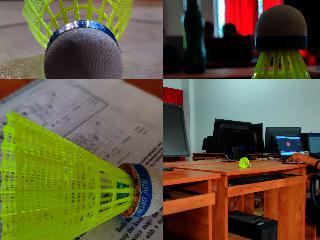shuttlecock: (0, 109, 162, 239), (21, 0, 136, 78), (224, 4, 319, 78), (238, 156, 250, 168)
